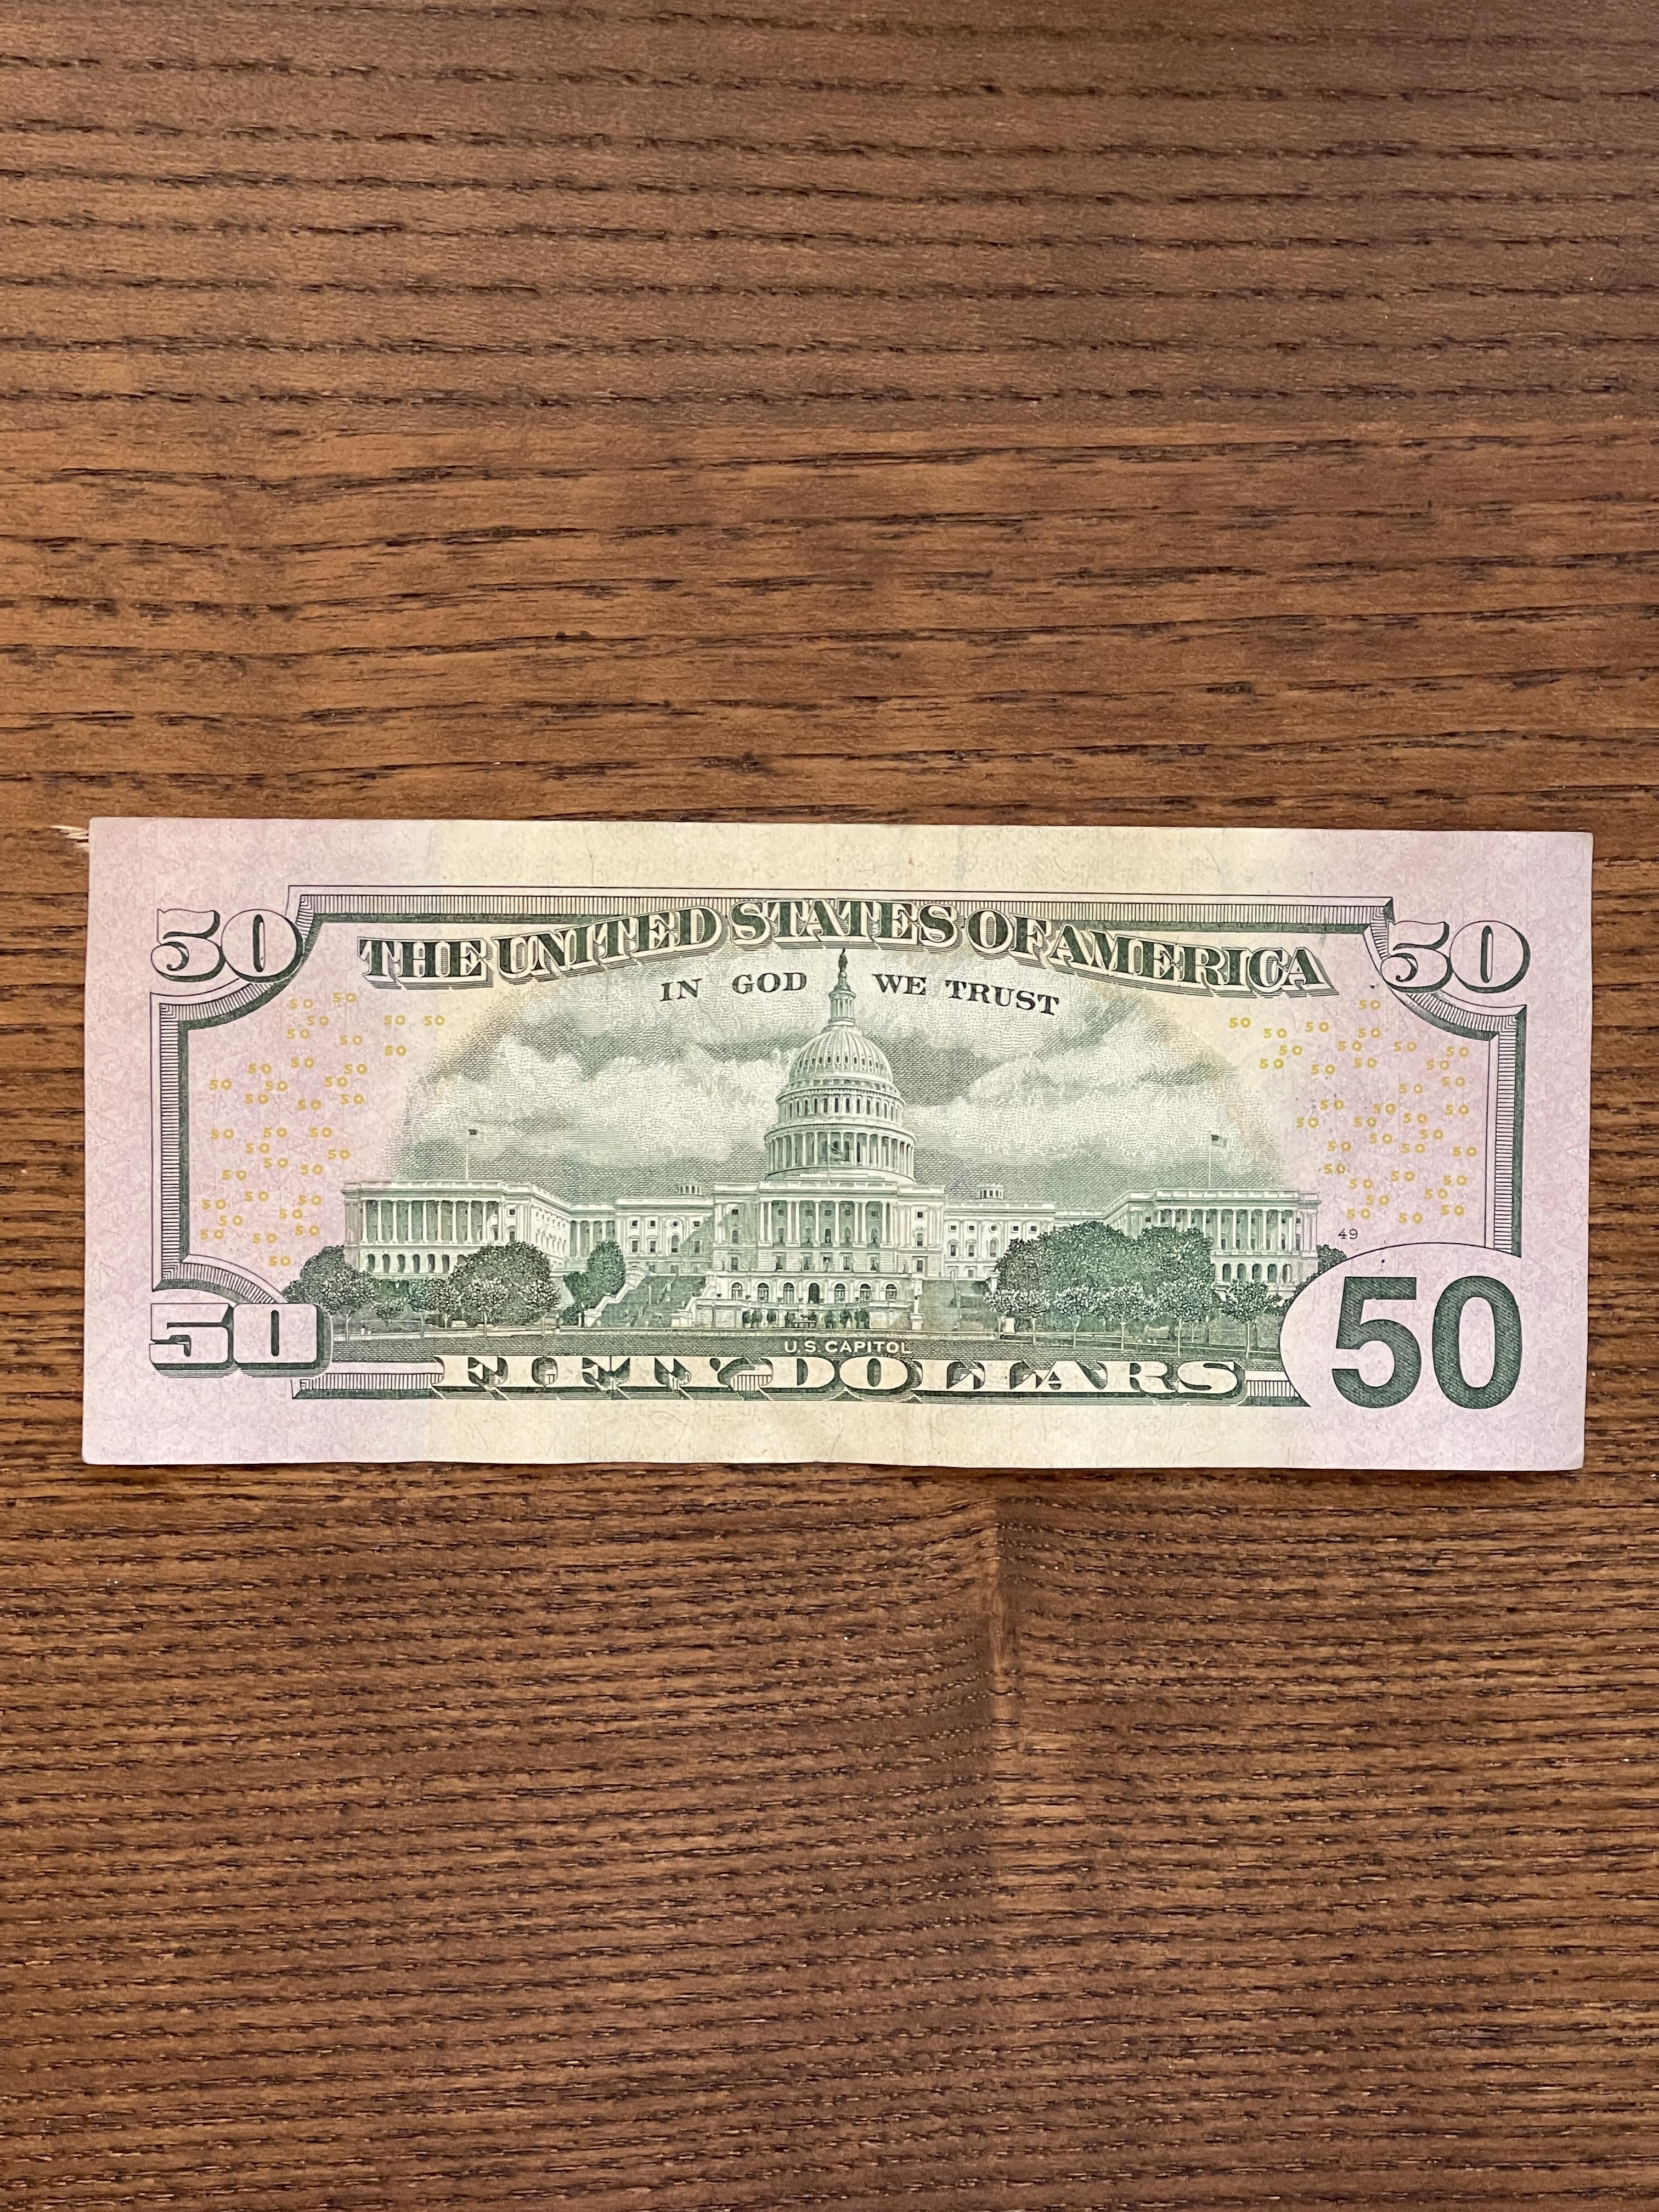FiftyBill: (71, 812, 1600, 1475)
